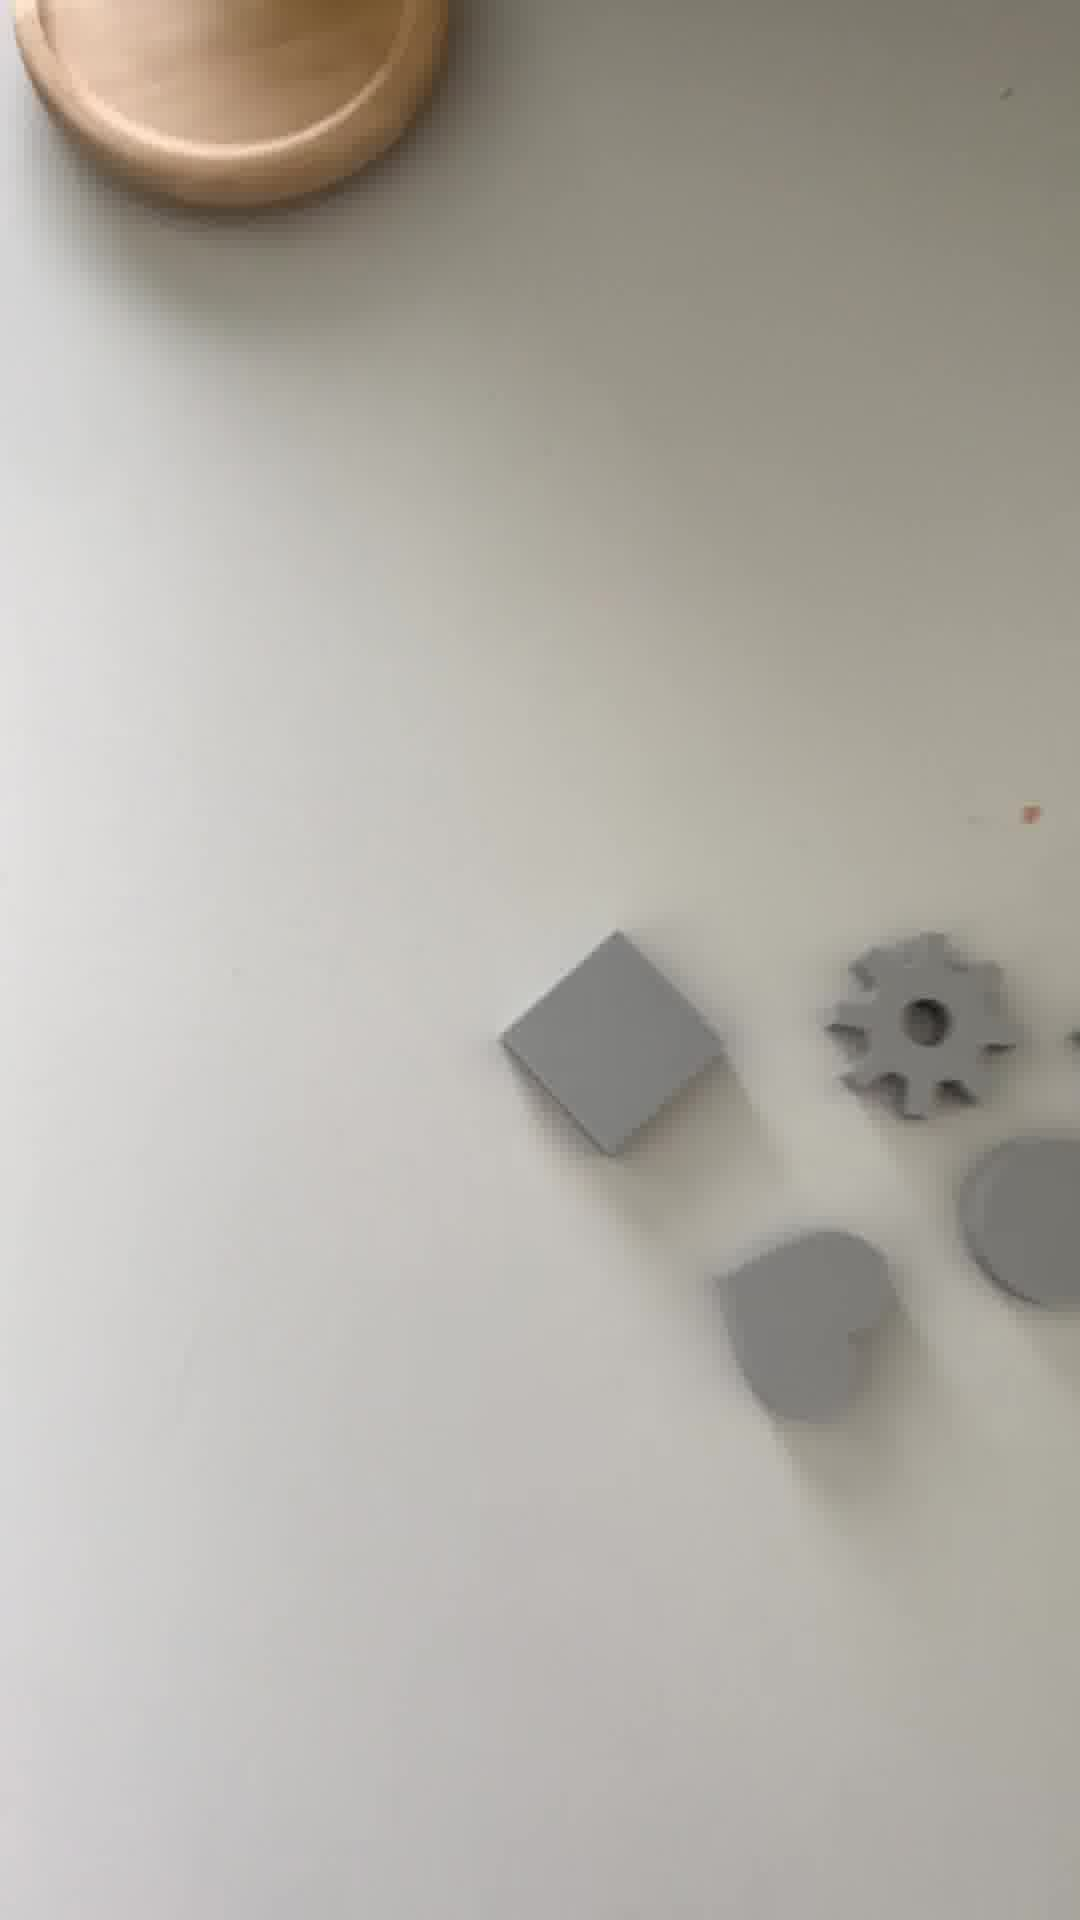Gray circle: (939, 1135, 1080, 1327)
Gray gear: (828, 932, 1010, 1127)
Gray heart: (709, 1238, 902, 1425)
Gray square: (506, 924, 715, 1168)
